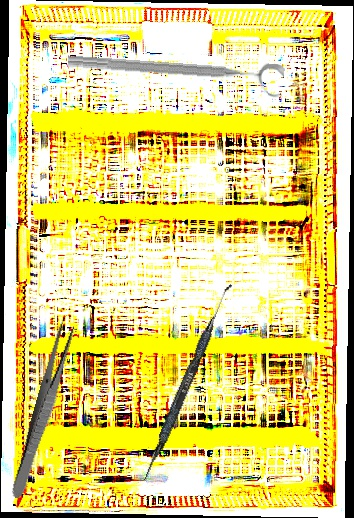Dressing Forceps: (9, 319, 78, 502)
Fixation Ring: (66, 49, 285, 100)
Spatula Surgical: (141, 280, 233, 484)
